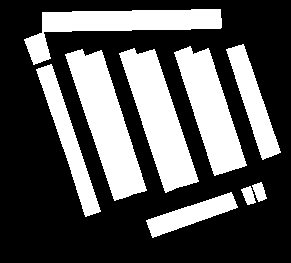parkingspot: (65, 49, 130, 200), (36, 64, 100, 216), (119, 48, 182, 192), (84, 50, 146, 194), (137, 49, 198, 186), (174, 46, 230, 175), (192, 48, 246, 170), (226, 44, 280, 159), (146, 192, 237, 237), (42, 9, 221, 31), (24, 32, 50, 64), (252, 182, 266, 201), (241, 186, 255, 204)
